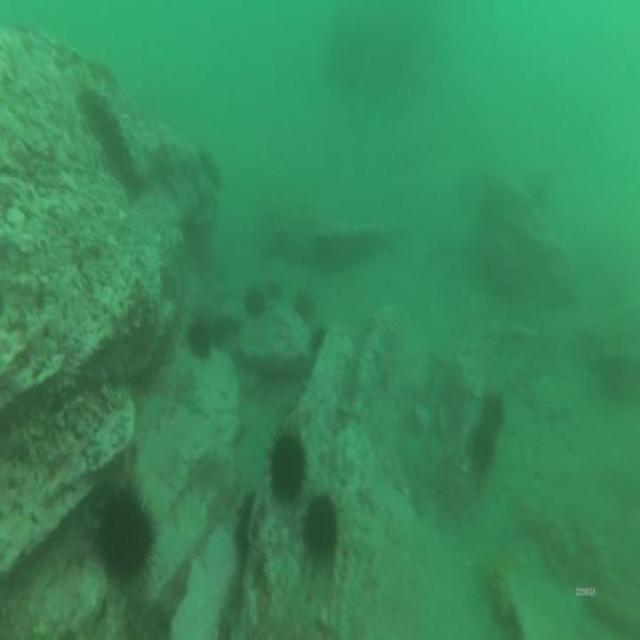echinus: (94, 487, 160, 591), (263, 423, 310, 508), (299, 490, 342, 570), (183, 314, 216, 364), (466, 425, 494, 477), (479, 389, 505, 442), (234, 492, 255, 553), (241, 284, 267, 326), (292, 286, 316, 327), (308, 317, 330, 358), (260, 273, 286, 305)
